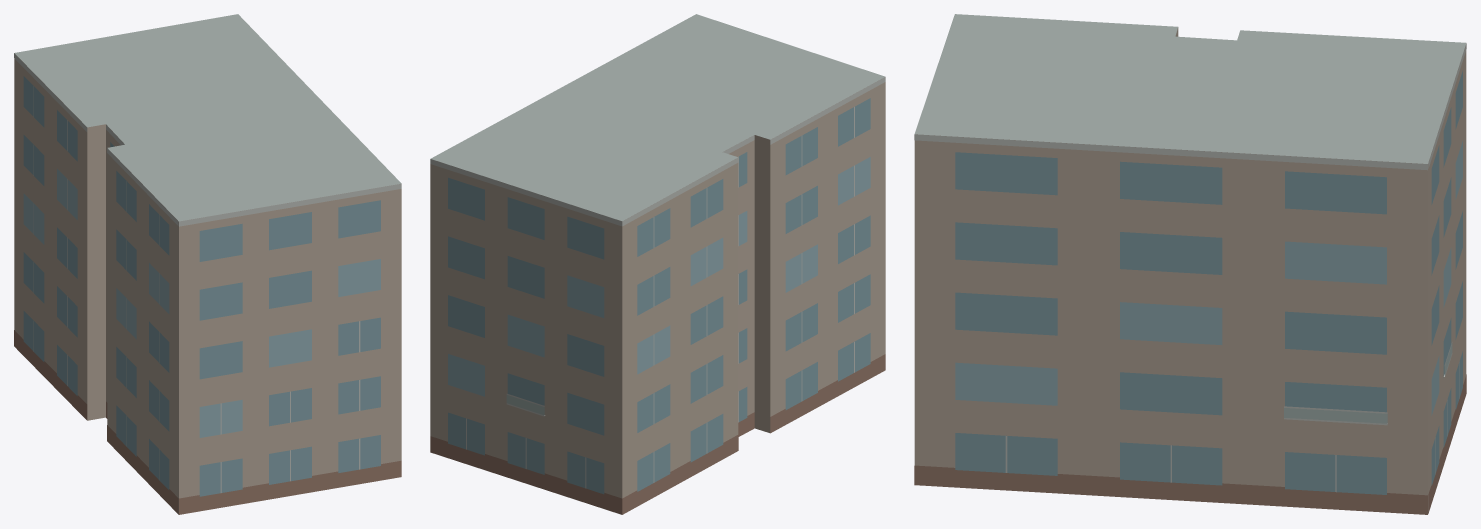
Rendered from survey-upis-32655995.glb.
3 views of the same model, side by side, from view 1: azimuth 30°, elevation 25°; view 2: azimuth 150°, elevation 25°; view 3: azimuth 270°, elevation 25° (orthographic). The views are drawn at different scales.
Parts seen in each view (by area): view 1: survey-upis-32655995.tmp; view 2: survey-upis-32655995.tmp; view 3: survey-upis-32655995.tmp.
Part boxes in pixels (box(x1,y1,x2,y2)): survey-upis-32655995.tmp: box(14, 14, 401, 514); survey-upis-32655995.tmp: box(430, 14, 885, 514); survey-upis-32655995.tmp: box(914, 14, 1466, 514).
Bounding box in the file's own units: 12.76 × 13.9 × 19.83.
